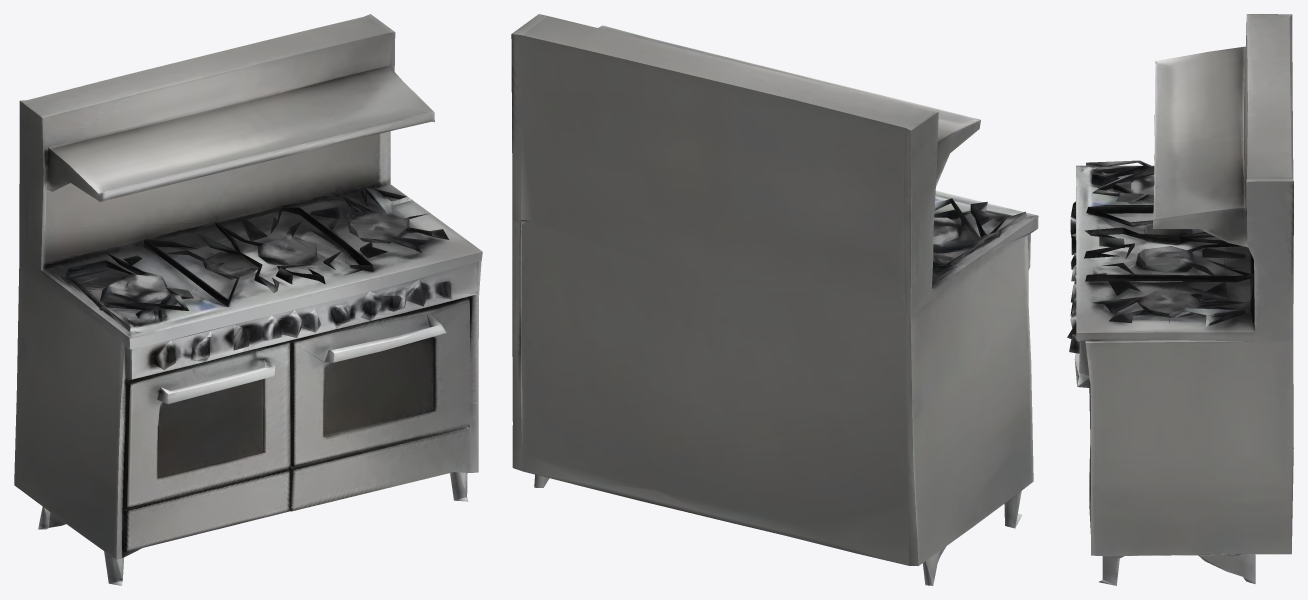
The model's file is kitchenRangeOven.glb.
3 renders of one model, left to right at view 1: azimuth 30°, elevation 25°; view 2: azimuth 150°, elevation 25°; view 3: azimuth 270°, elevation 25°, orthographic. The views are drawn at different scales.
Visible parts, largest first — view 1: model; view 2: model; view 3: model.
Part boxes in pixels (x1,y1,x2,y2): model: (14,14,482,585); model: (511,14,1038,585); model: (1067,14,1293,585).
Size of the model in its own units: 1.73 by 1.9 by 0.9637.
Materials: 1 (1 with a texture image).
